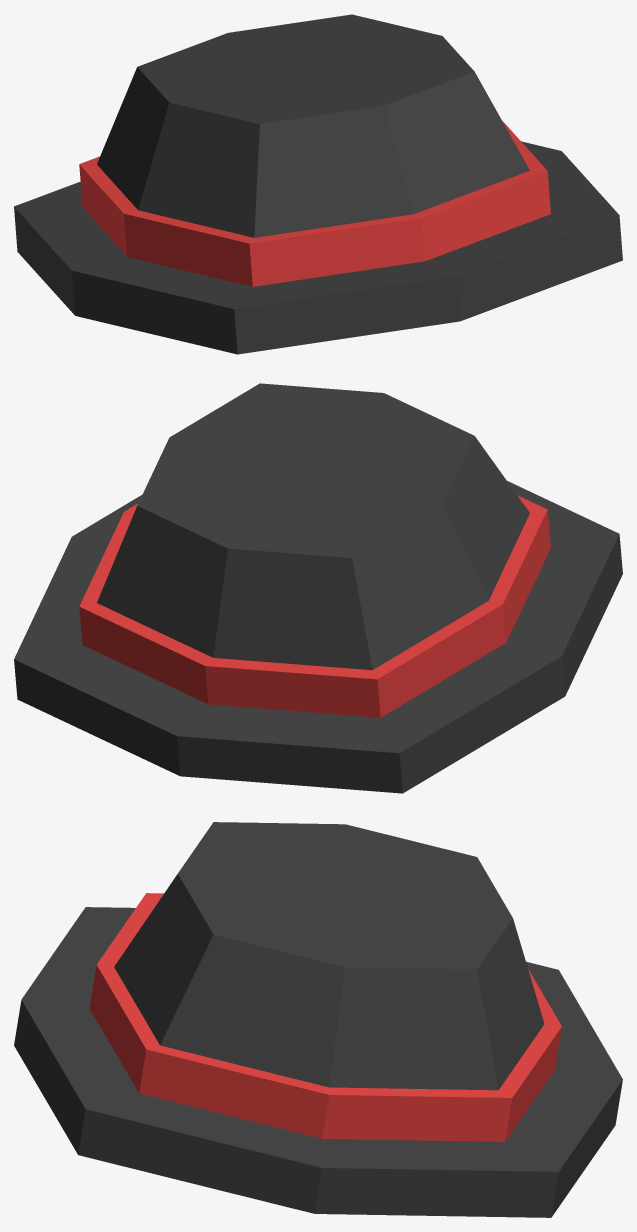
The model's file is hat.fbx.
3 renders of one model, top to bottom at view 1: azimuth 30°, elevation 25°; view 2: azimuth 150°, elevation 25°; view 3: azimuth 270°, elevation 25°, orthographic. The views are drawn at different scales.
Parts seen in each view (by area): view 1: Plane.001; view 2: Plane.001; view 3: Plane.001.
Boxes of the visible parts, left/top/right/bottom form: Plane.001: left=14, top=14, right=622, bottom=354; Plane.001: left=14, top=383, right=622, bottom=793; Plane.001: left=14, top=822, right=622, bottom=1217.
Bounding box in the file's own units: 180 × 82.04 × 180.
